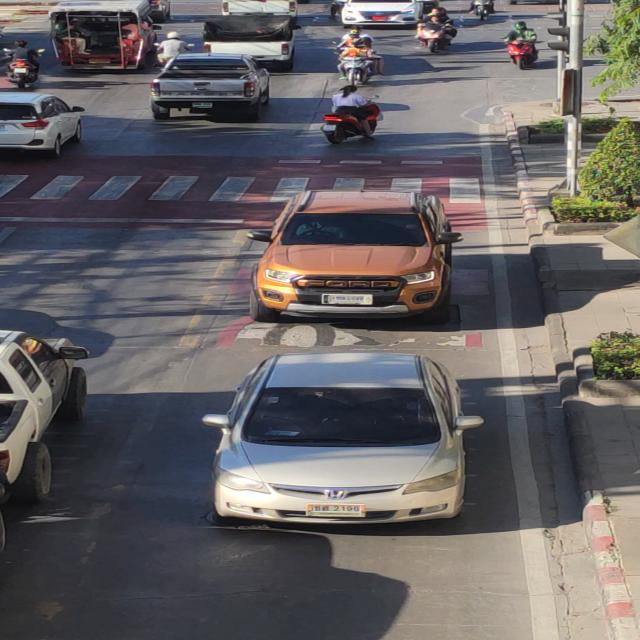car: (226, 180, 473, 324)
